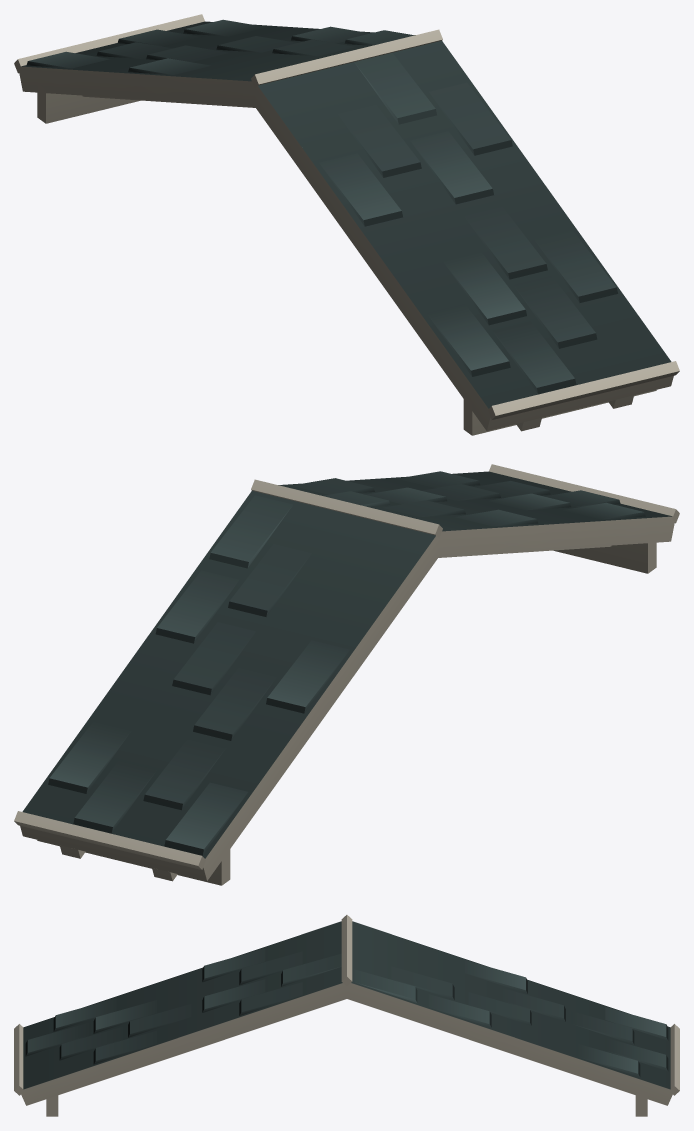
The model's file is TSP_House_Roof_02B_3.fbx.
3 views of the same model, one above another, from view 1: azimuth 30°, elevation 25°; view 2: azimuth 150°, elevation 25°; view 3: azimuth 270°, elevation 25° (orthographic). The views are drawn at different scales.
Visible parts, largest first — view 1: TSP_House_Roof_02B_3; view 2: TSP_House_Roof_02B_3; view 3: TSP_House_Roof_02B_3.
Part boxes in pixels (x1,y1,x2,y2): TSP_House_Roof_02B_3: [14, 14, 679, 435]; TSP_House_Roof_02B_3: [14, 464, 679, 885]; TSP_House_Roof_02B_3: [14, 915, 679, 1116].
Size of the model in its own units: 2 by 2.1 by 9.05.
